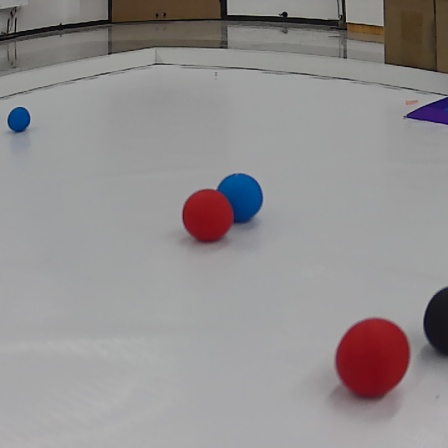black: (422, 285, 448, 360)
blue: (215, 170, 269, 220), (6, 102, 36, 135)
red: (333, 317, 411, 399), (180, 188, 234, 243)
